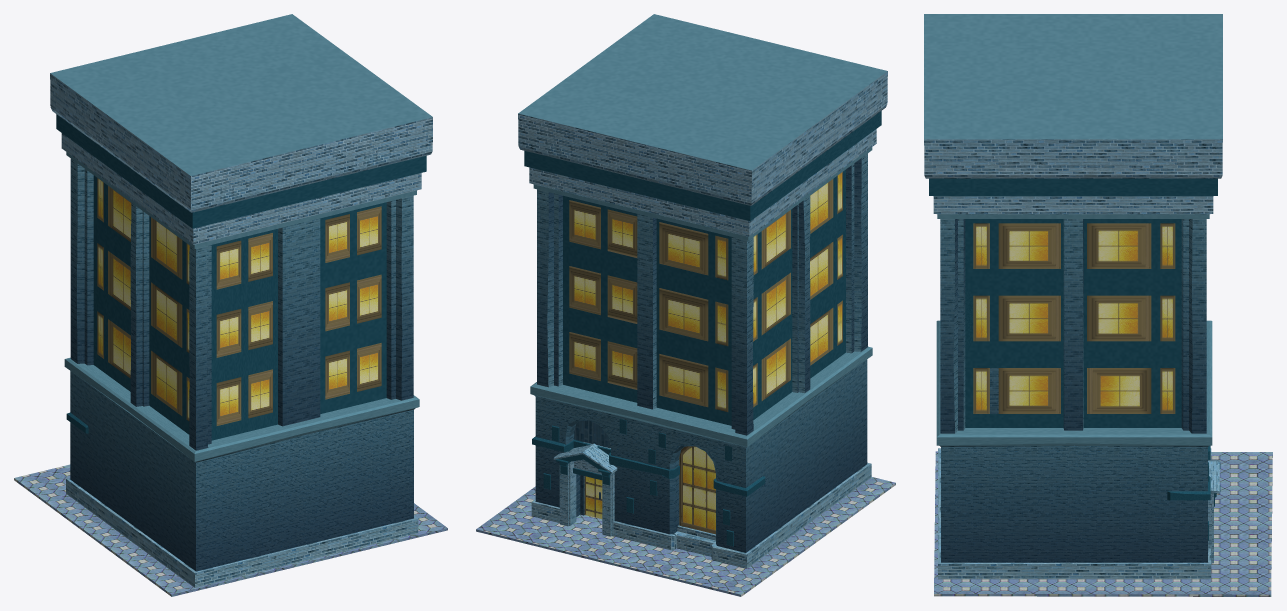
The model's file is BLD1210001.fbx.
3 views of the same model, side by side, from view 1: azimuth 30°, elevation 25°; view 2: azimuth 150°, elevation 25°; view 3: azimuth 270°, elevation 25° (orthographic). The views are drawn at different scales.
Parts seen in each view (by area): view 1: smBLD1210001; view 2: smBLD1210001; view 3: smBLD1210001.
Part boxes in pixels (box(x1,y1,x2,y2)): smBLD1210001: box(14, 14, 447, 596); smBLD1210001: box(476, 14, 895, 596); smBLD1210001: box(924, 14, 1272, 596).
Size of the model in its own units: 1594 by 2319 by 1640.
1 material, 1 textured.
